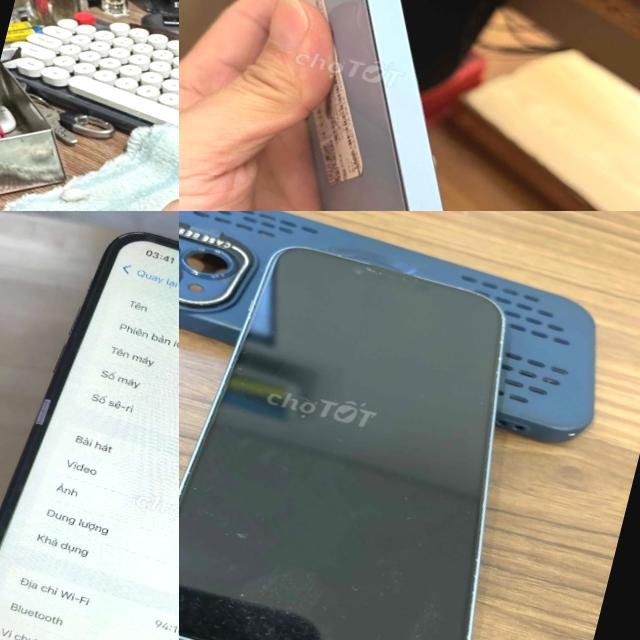gen_12_13: (108, 0, 179, 211)
gen_14: (179, 215, 560, 640), (179, 0, 591, 211)
gen_x_xs: (0, 232, 179, 640)
